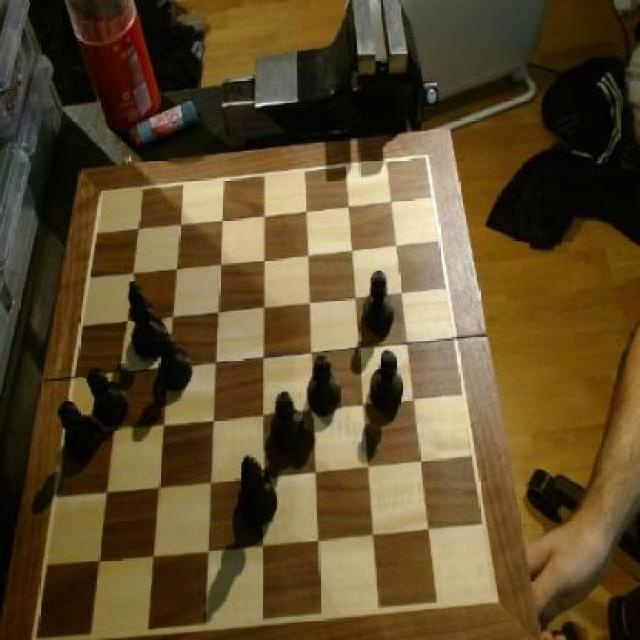bishop: (123, 277, 168, 364), (235, 451, 280, 533)
black-knight: (83, 362, 130, 433), (368, 346, 407, 416), (52, 398, 96, 459), (269, 392, 307, 462), (157, 326, 195, 396), (362, 268, 398, 338), (306, 354, 344, 420)
